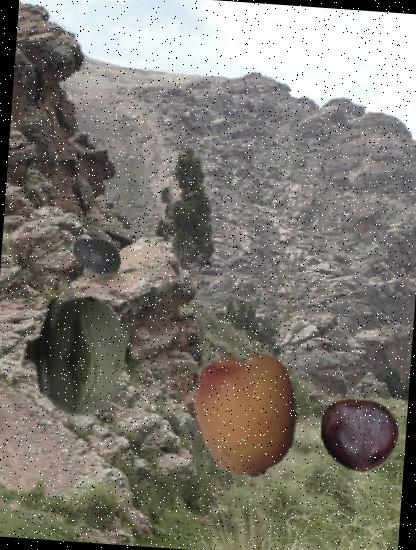Apricot: (182, 347, 316, 481)
Avocado: (70, 228, 124, 282)
Chestnut: (318, 394, 402, 478)
Kohlrabi: (16, 290, 147, 421)
